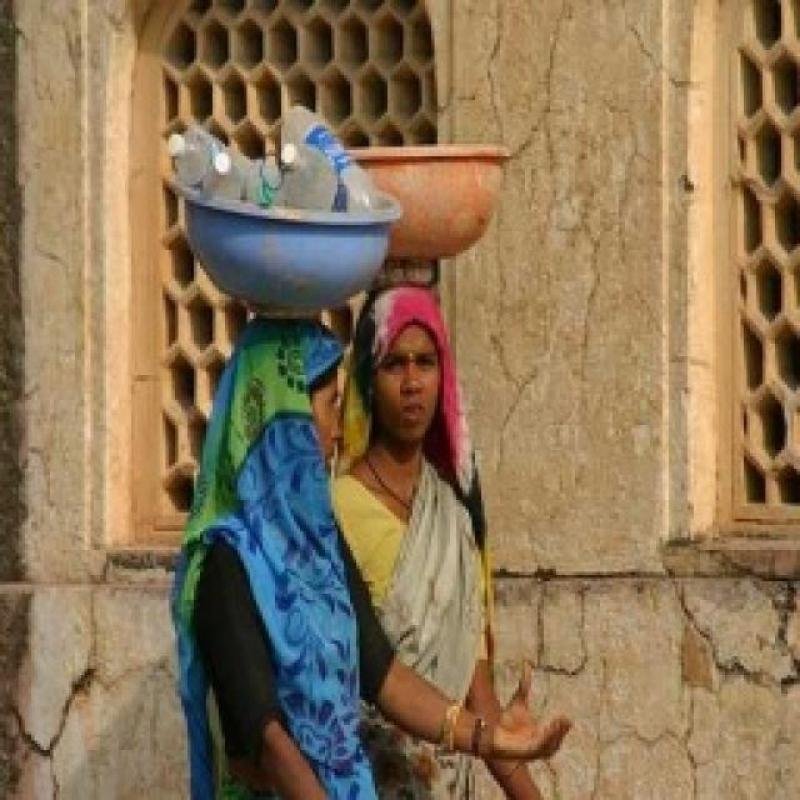botella: (282, 106, 374, 209), (166, 128, 235, 191), (284, 152, 338, 208), (202, 152, 243, 200), (244, 159, 281, 206)
